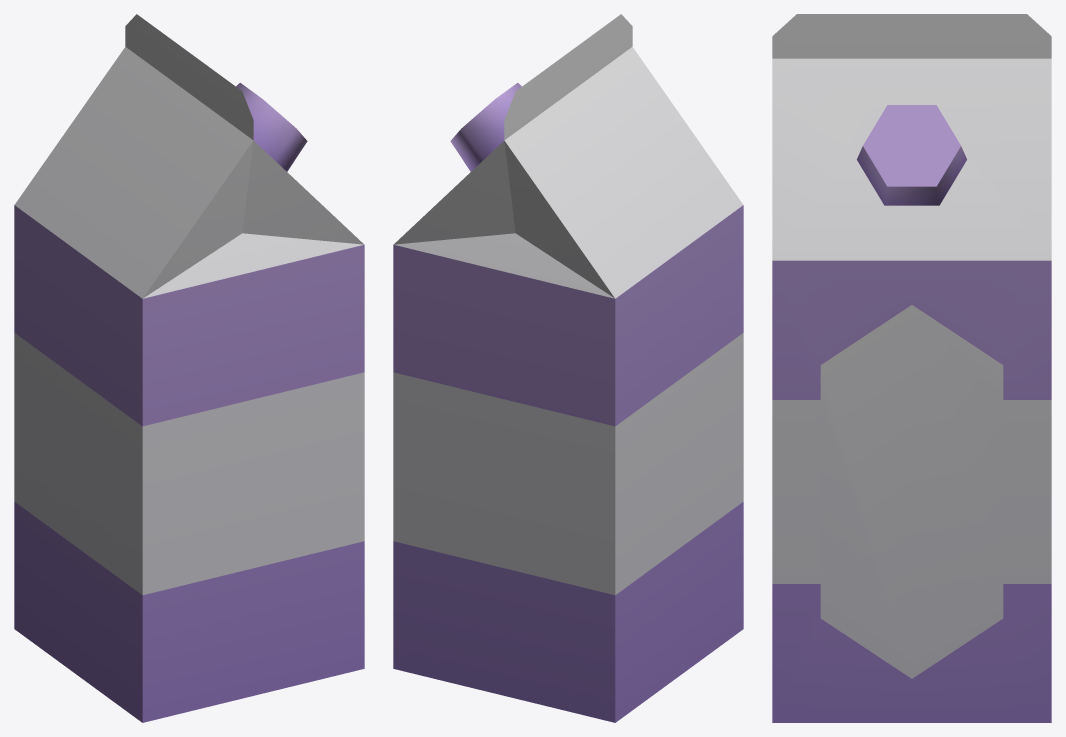
Rendered from carton.glb.
3 views of the same model, side by side, from view 1: azimuth 30°, elevation 25°; view 2: azimuth 150°, elevation 25°; view 3: azimuth 270°, elevation 25° (orthographic). The views are drawn at different scales.
Parts seen in each view (by area): view 1: carton; view 2: carton; view 3: carton.
Part boxes in pixels (x1,y1,x2,y2): carton: (14,14,364,722); carton: (393,14,743,722); carton: (772,14,1051,722).
Bounding box in the file's own units: 0.23 × 0.5905 × 0.23.
